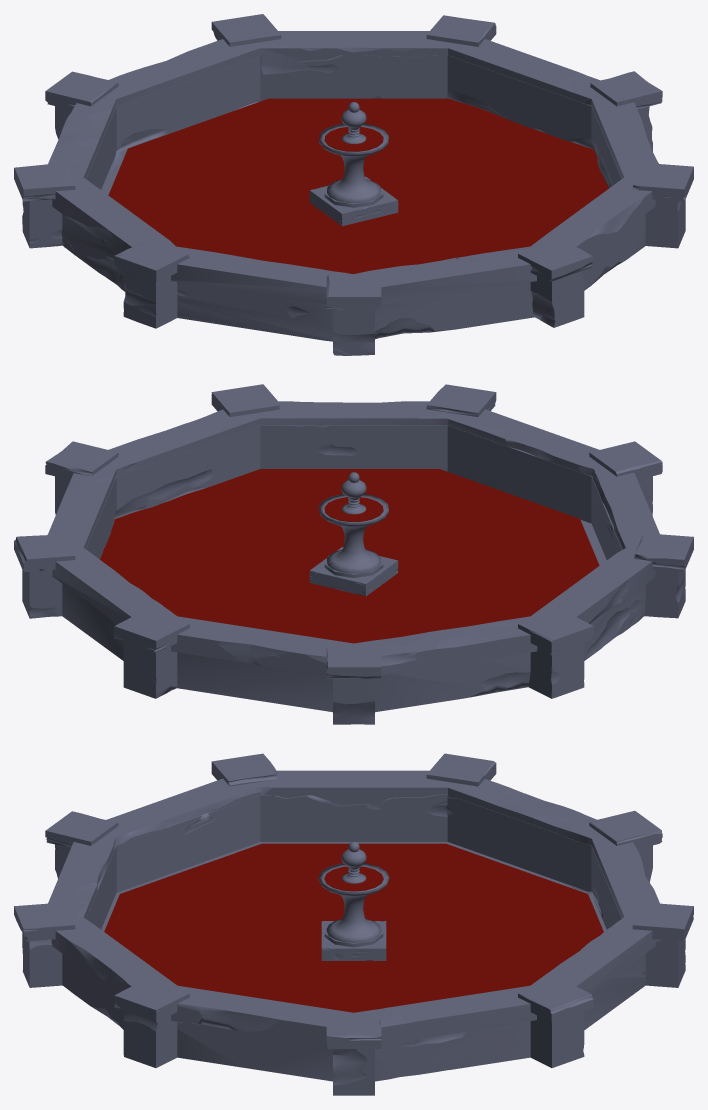
The model's file is firefountain.FBX.
3 views of the same model, one above another, from view 1: azimuth 30°, elevation 25°; view 2: azimuth 150°, elevation 25°; view 3: azimuth 270°, elevation 25° (orthographic).
Parts seen in each view (by area): view 1: Cylinder005, Cylinder001, Shape010, Shape007, Shape005, Shape016, Shape014, Shape015, Shape006, Shape013, Shape017, Shape018 (+9 smaller); view 2: Cylinder005, Cylinder001, Shape010, Shape008, Shape001, Shape017, Shape019, Shape009, Shape018, Shape011, Shape016, Shape015 (+9 smaller); view 3: Cylinder005, Cylinder001, Shape010, Shape002, Shape004, Shape013, Shape011, Shape003, Shape012, Shape019, Shape014, Shape018 (+9 smaller).
Part boxes in pixels (x1,y1,x2,y2): Cylinder005: (108, 98, 608, 274); Cylinder001: (61, 55, 645, 341); Shape010: (48, 31, 658, 304); Shape007: (123, 272, 177, 328); Shape005: (530, 271, 584, 327); Shape016: (114, 240, 189, 282); Shape014: (518, 239, 593, 281); Shape015: (326, 274, 381, 309); Shape006: (333, 309, 374, 355); Shape013: (632, 162, 693, 201); Shape017: (14, 163, 75, 201); Shape018: (45, 71, 118, 110); Cylinder005: (100, 469, 599, 643); Cylinder001: (62, 425, 645, 712); Shape010: (47, 401, 659, 675); Shape008: (529, 642, 584, 698); Shape001: (123, 642, 177, 698); Shape017: (518, 609, 593, 653); Shape019: (114, 609, 189, 652); Shape009: (333, 678, 374, 724); Shape018: (326, 645, 381, 678); Shape011: (14, 533, 75, 572); Shape016: (634, 533, 693, 572); Shape015: (589, 441, 662, 479); Cylinder005: (104, 843, 603, 1012); Cylinder001: (62, 794, 645, 1081); Shape010: (48, 770, 659, 1044); Shape002: (530, 1011, 584, 1067); Shape004: (123, 1012, 177, 1067); Shape013: (114, 978, 189, 1022); Shape011: (518, 978, 593, 1022); Shape003: (333, 1049, 374, 1095); Shape012: (326, 1014, 381, 1048); Shape019: (632, 902, 693, 941); Shape014: (14, 902, 75, 941); Shape018: (589, 810, 662, 849).
Size of the model in its own units: 348 by 64.74 by 354.
